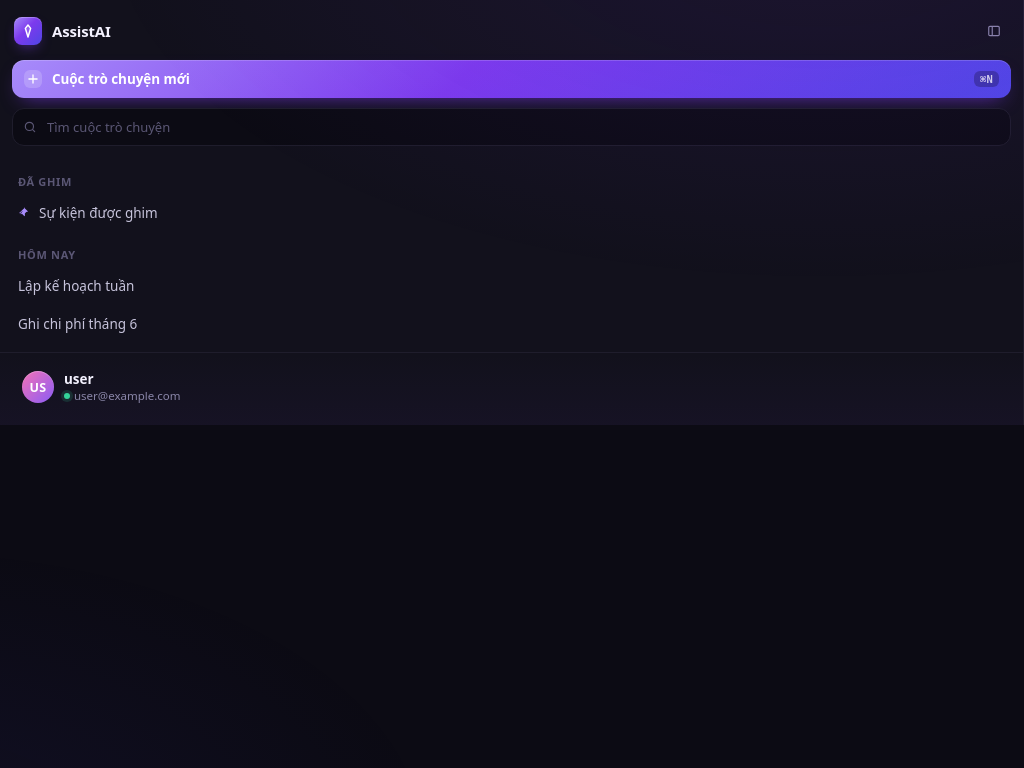
it: Sidebar — search › shows not-found message when no conversations match
Type "xyz không tồn tại" into the field with placeholder "Tìm cuộc trò chuyện" at (522, 127), box [45, 117, 1000, 137]
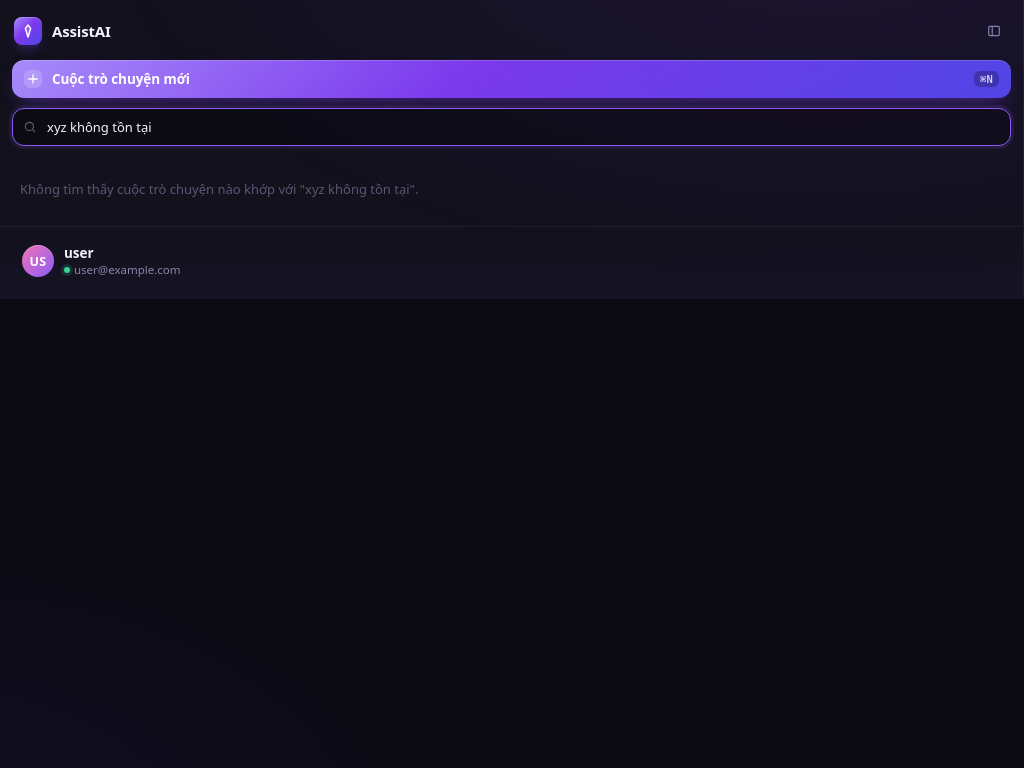
expect the text "Không tìm thấy" is shown: met, box [20, 180, 305, 198]
